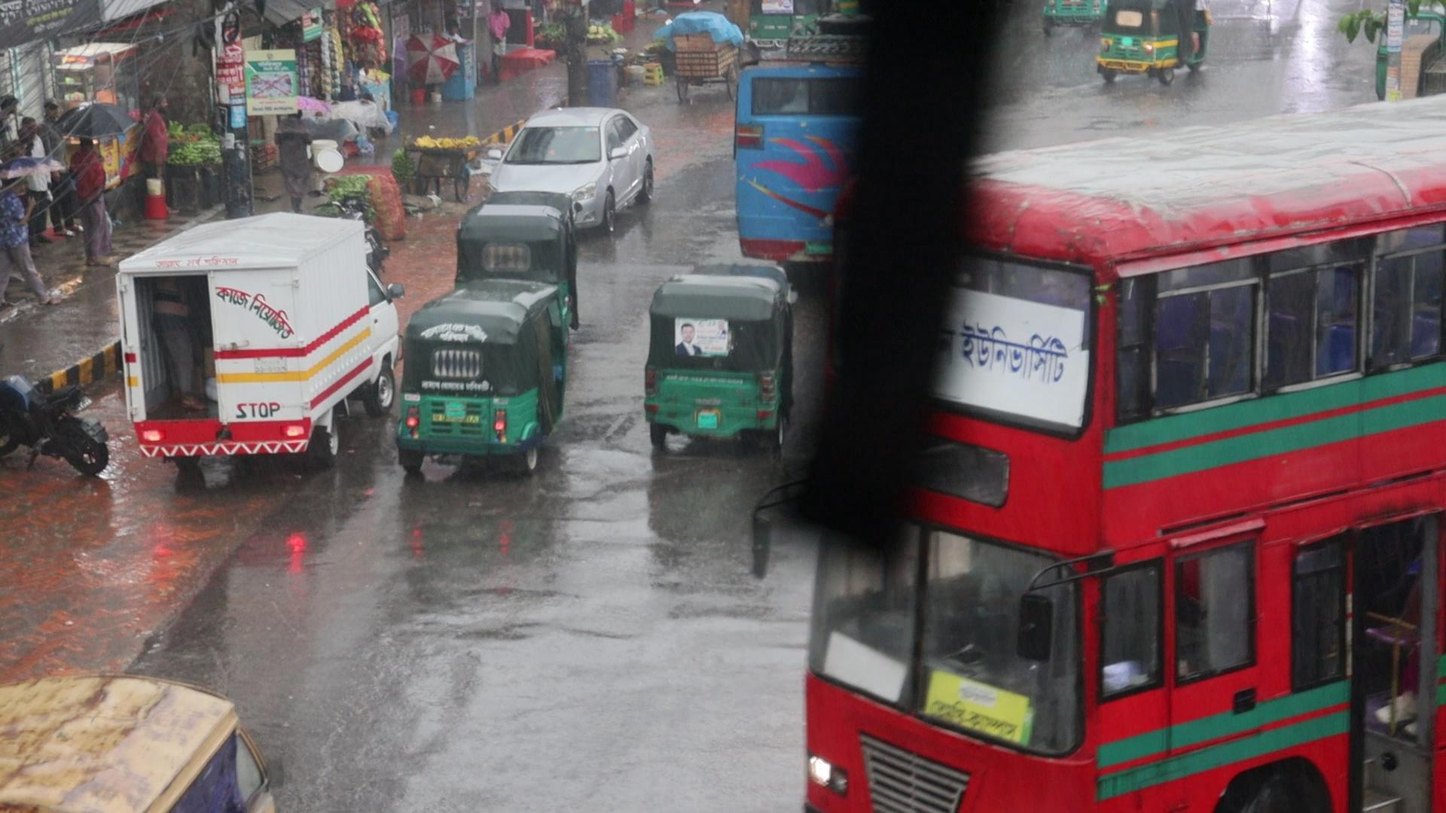Car: (483, 104, 656, 204)
